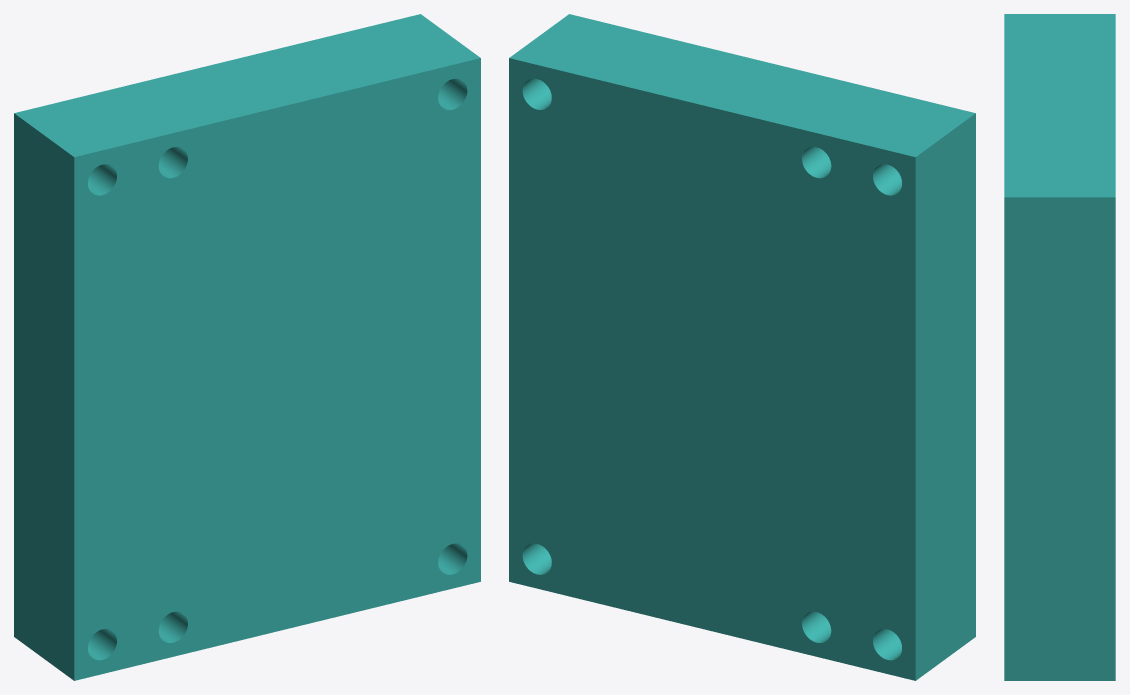
The model's file is pcb.glb.
3 renders of one model, left to right at view 1: azimuth 30°, elevation 25°; view 2: azimuth 150°, elevation 25°; view 3: azimuth 270°, elevation 25°, orthographic. The views are drawn at different scales.
Size of the model in its own units: 0.039 by 0.048 by 0.01.
